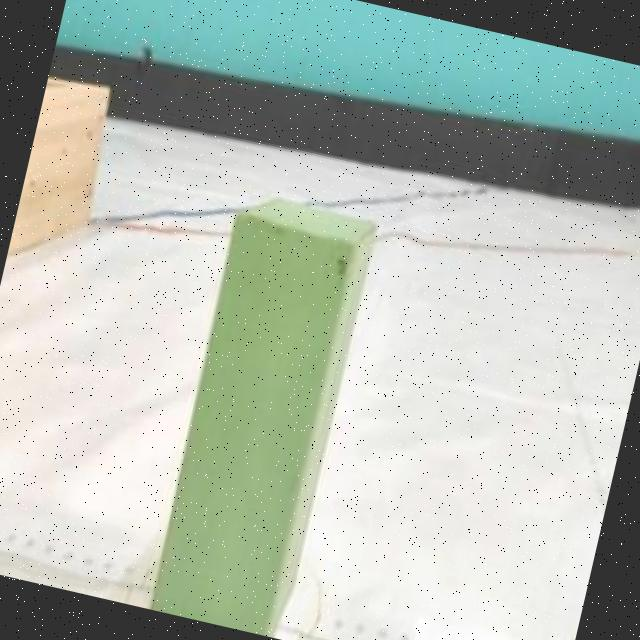greenbox: (140, 180, 389, 640)
